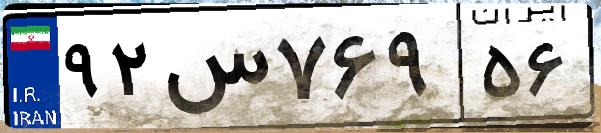2: (110, 28, 158, 98)
5: (475, 38, 525, 113)
6: (330, 28, 385, 110), (525, 38, 570, 115)
7: (270, 28, 330, 110)
9: (385, 28, 445, 110), (57, 26, 110, 100)
س: (158, 20, 270, 120)
